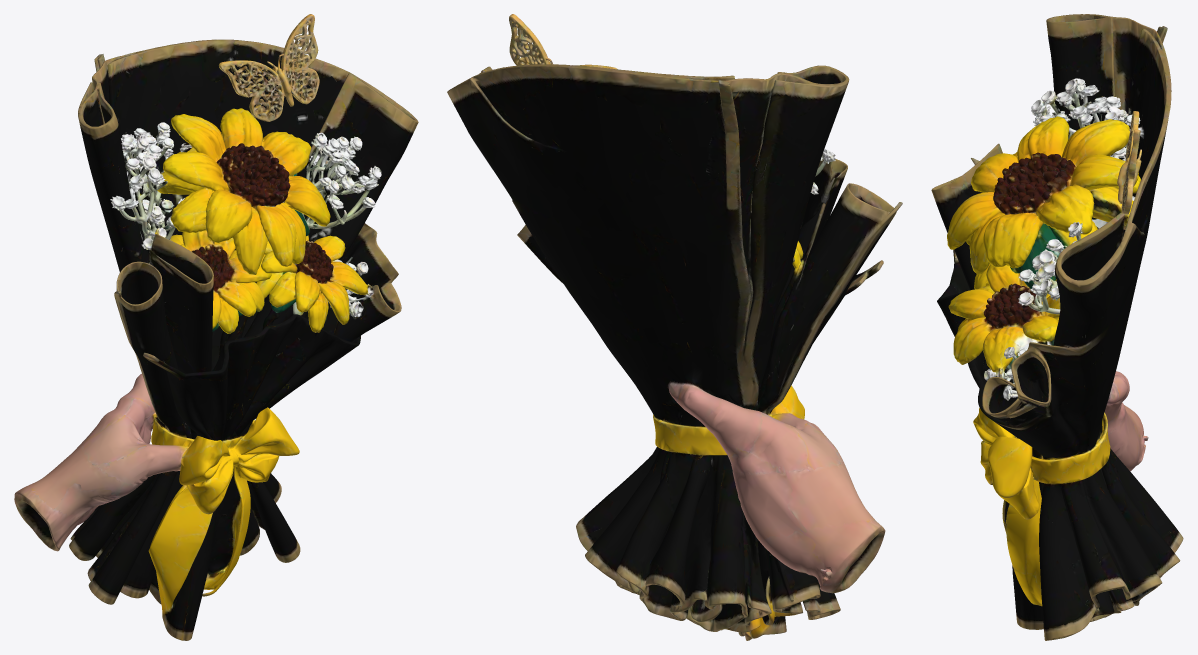
File: sunflowers.glb
3 renders of one model, left to right at view 1: azimuth 30°, elevation 25°; view 2: azimuth 150°, elevation 25°; view 3: azimuth 270°, elevation 25°, orthographic. The views are drawn at different scales.
Bounding box in the file's own units: 1.41 × 1.9 × 0.737.
1 material, 1 textured.
